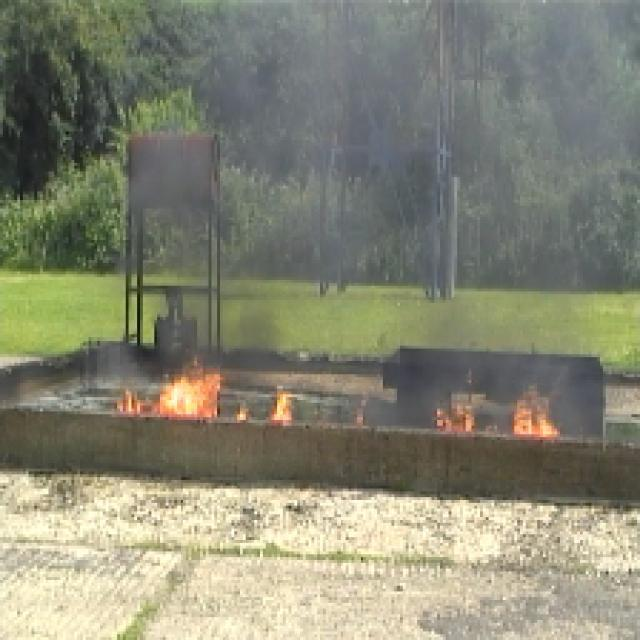Fire: (423, 382, 563, 435), (119, 366, 227, 419)
Smoke: (342, 105, 558, 266)
